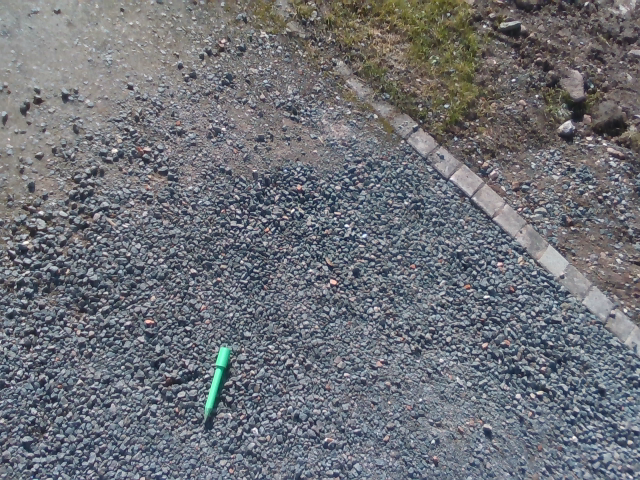Probe: (198, 343, 232, 430)
